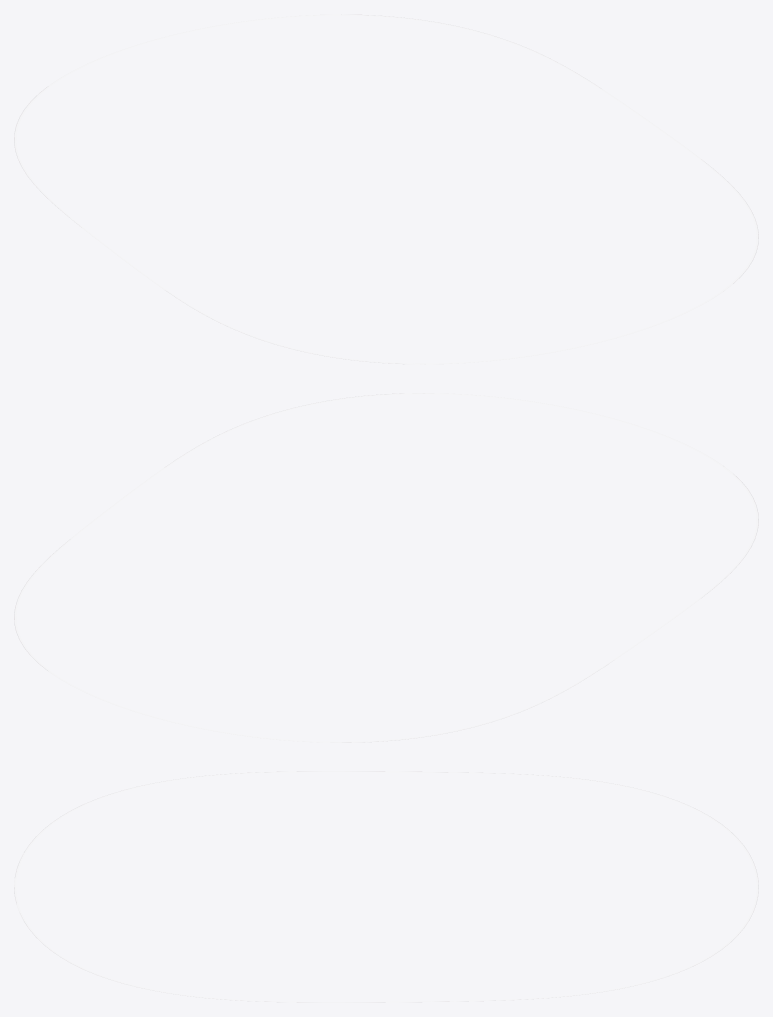
Rendered from ground_30_yards_2026-10-29.glb.
3 views of the same model, one above another, from view 1: azimuth 30°, elevation 25°; view 2: azimuth 150°, elevation 25°; view 3: azimuth 270°, elevation 25° (orthographic). The views are drawn at different scales.
Visible parts, largest first — view 1: ground_30_yards; view 2: ground_30_yards; view 3: ground_30_yards.
Part boxes in pixels (x1=…): ground_30_yards: x1=14, y1=14, x2=758, y2=364; ground_30_yards: x1=14, y1=393, x2=758, y2=742; ground_30_yards: x1=14, y1=771, x2=758, y2=1002.
Bounding box in the file's own units: 55.43 × 0 × 75.42.
1 material, 1 textured.
